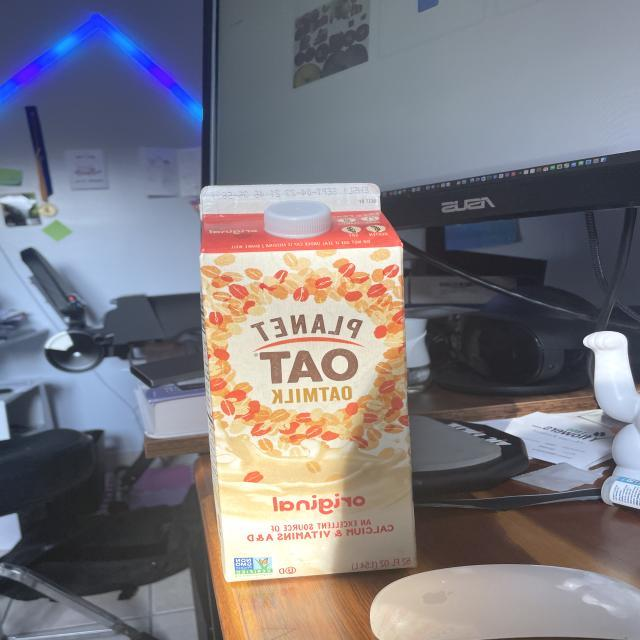Planet Oat Original: (190, 168, 424, 590)
